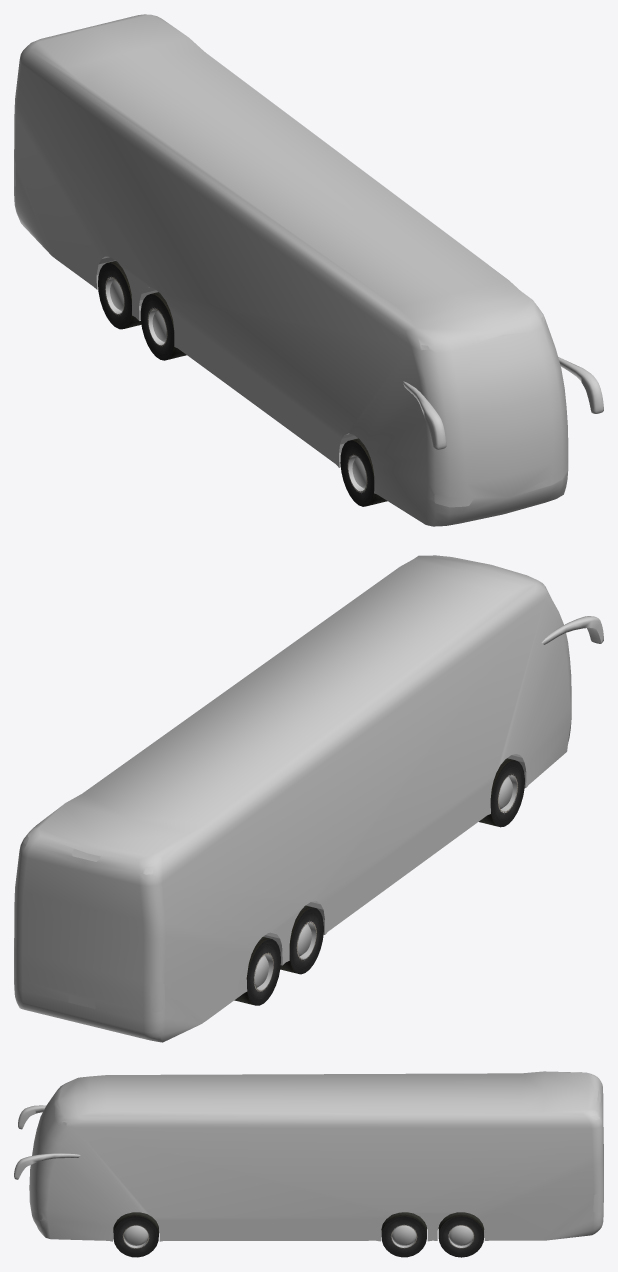
File: BusClimm.fbx
The picture shows the model from 3 angles, top to bottom: view 1: azimuth 30°, elevation 25°; view 2: azimuth 150°, elevation 25°; view 3: azimuth 270°, elevation 25°; orthographic projection. The views are drawn at different scales.
Parts seen in each view (by area): view 1: Bus, FR, BR2, BR, Bus.001; view 2: Bus, FR, BR2, BR, Bus.001; view 3: Bus, BL, FL, BL2, Bus.001.
Boxes of the visible parts, x1,y1,x2,y2 form: Bus: (14, 14, 603, 526); FR: (340, 438, 387, 506); BR2: (140, 292, 186, 360); BR: (98, 261, 141, 329); Bus.001: (14, 46, 568, 507); Bus: (14, 555, 603, 1042); FR: (479, 758, 524, 827); BR2: (280, 905, 323, 974); BR: (234, 937, 280, 1005); Bus.001: (14, 587, 571, 1012); Bus: (14, 1071, 603, 1241); BL: (438, 1212, 484, 1257); FL: (113, 1212, 158, 1257); BL2: (381, 1212, 426, 1257); Bus.001: (31, 1078, 602, 1219).
Size of the model in its own units: 2.53 by 3.11 by 11.69.
